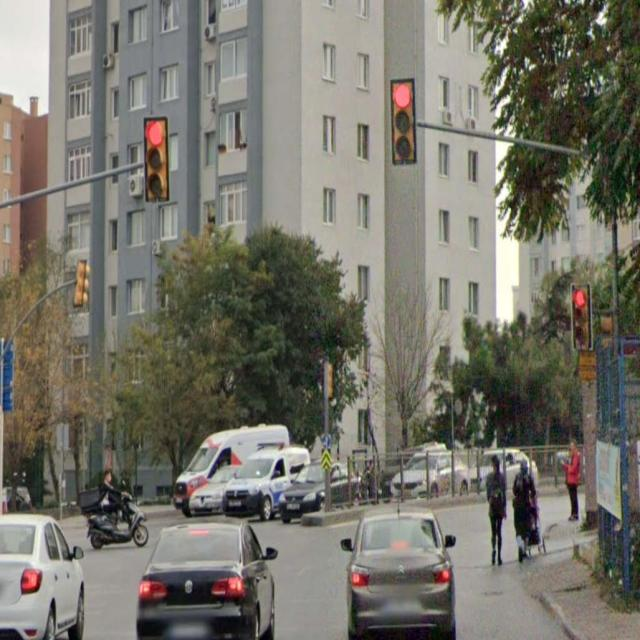kirmizi: (390, 79, 415, 166), (144, 118, 167, 202), (570, 283, 592, 349)
